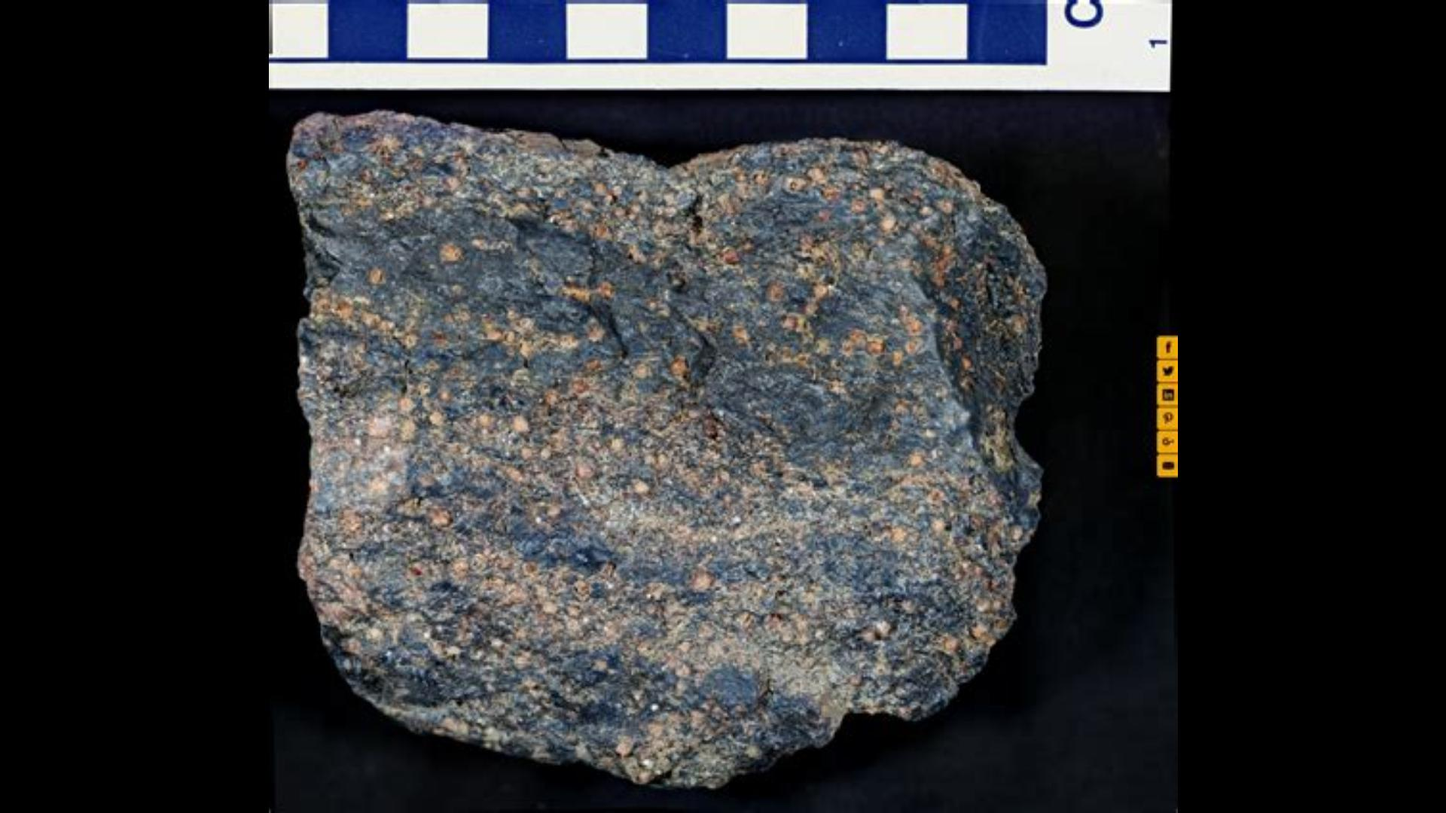rock: (297, 113, 1041, 784)
